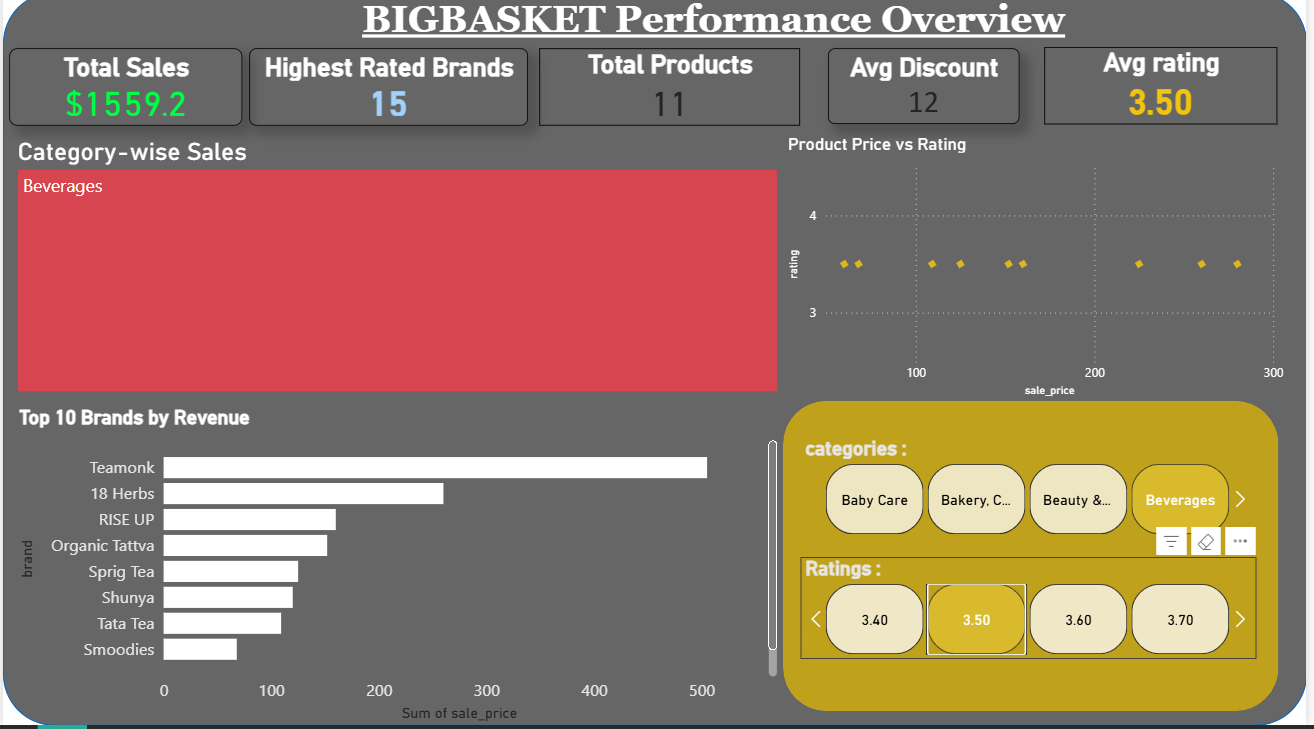

The dashboard page shown, as its layout file describes it:
{"tool":"powerbi","page":{"name":"Page 1","canvas":[1280,720],"ordinal":0},"visuals":[{"type":"shape","box":[0,0,1280,720.3],"z":0},{"type":"shape","box":[765,401.8,486.4,304.8],"z":1000},{"type":"textbox","box":[202.8,0,990.2,74.6],"z":2000},{"type":"card","title":"Total Sales","fields":{"Values":["BigBasket Products.Measure"]},"box":[6.2,54.7,228.9,75.9],"z":3000},{"type":"card","title":"Avg rating","fields":{"Values":["BigBasket Products.reating"]},"box":[1022.5,53.5,228.9,75.9],"z":4000},{"type":"card","title":"Highest Rated Brands","fields":{"Values":["BigBasket Products.highest_rated"]},"box":[241.3,54.7,273.7,75.9],"z":5000},{"type":"card","title":"Avg Discount","fields":{"Values":["BigBasket Products.avgdis"]},"box":[809.8,54.7,187.8,74.6],"z":6000},{"type":"card","title":"Total Products","fields":{"Values":["BigBasket Products.total product1"]},"box":[526.2,54.7,256.3,75.9],"z":7000},{"type":"treemap","title":"Category-wise Sales","fields":{"Group":["BigBasket Products.category"],"Values":["Sum(BigBasket Products.sale_price)"]},"box":[10,141.8,755.1,255],"z":8000},{"type":"clusteredBarChart","title":"Top 10 Brands by Revenue","fields":{"Category":["BigBasket Products.brand"],"Y":["Sum(BigBasket Products.sale_price)"]},"box":[11.2,405.5,753.8,314.7],"z":9000},{"type":"scatterChart","title":" Product Price vs Rating","fields":{"X":["BigBasket Products.sale_price"],"Y":["BigBasket Products.rating"]},"box":[765,138.1,496.3,263.7],"z":10000},{"type":"advancedSlicerVisual","title":"categories :","fields":{"Values":["BigBasket Products (2).category"]},"box":[782.5,436.6,447.8,100.8],"z":11000},{"type":"advancedSlicerVisual","title":"Ratings :","fields":{"Values":["BigBasket Products.rating"]},"box":[782.5,554.8,447.8,100.8],"z":12001}]}

Visuals, with their boxes in screenshot pixels (x1, y1, x2, y2), scaled from the page's 1280x720 canvas onto the 1314x729 screenshot:
shape: {"left": 0, "top": 0, "right": 1313, "bottom": 728}
shape: {"left": 785, "top": 407, "right": 1285, "bottom": 715}
textbox: {"left": 208, "top": 0, "right": 1225, "bottom": 76}
"Total Sales" card: {"left": 6, "top": 55, "right": 241, "bottom": 132}
"Avg rating" card: {"left": 1050, "top": 54, "right": 1285, "bottom": 131}
"Highest Rated Brands" card: {"left": 248, "top": 55, "right": 529, "bottom": 132}
"Avg Discount" card: {"left": 831, "top": 55, "right": 1024, "bottom": 131}
"Total Products" card: {"left": 540, "top": 55, "right": 803, "bottom": 132}
"Category-wise Sales" treemap: {"left": 10, "top": 144, "right": 785, "bottom": 402}
"Top 10 Brands by Revenue" clusteredBarChart: {"left": 11, "top": 411, "right": 785, "bottom": 728}
" Product Price vs Rating" scatterChart: {"left": 785, "top": 140, "right": 1295, "bottom": 407}
"categories :" advancedSlicerVisual: {"left": 803, "top": 442, "right": 1263, "bottom": 544}
"Ratings :" advancedSlicerVisual: {"left": 803, "top": 562, "right": 1263, "bottom": 664}
